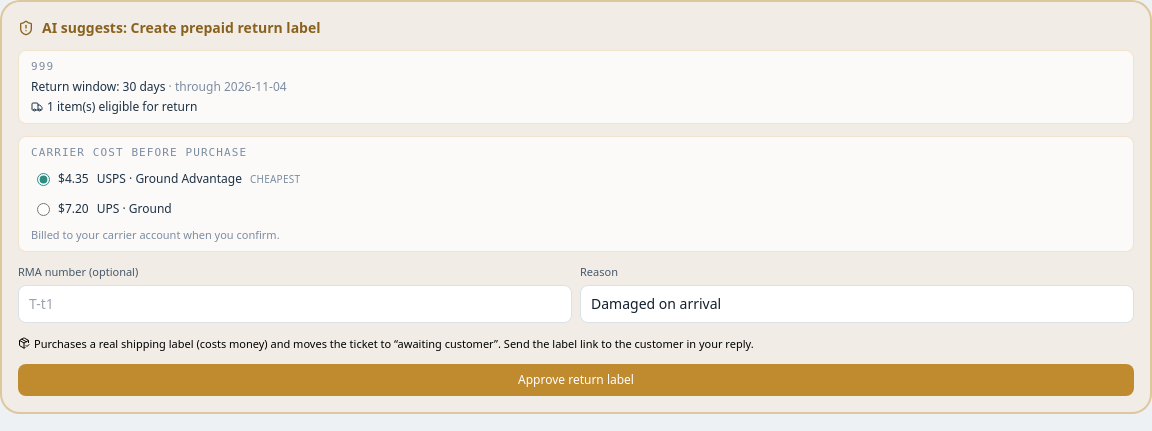
Test case: ReturnApprovalPanel › buys the label with an idempotency key and shows tracking + PDF link
Expected: the text "Return window: 30 days · through 2026-11-04" is shown, [31, 78, 287, 95]
Click the button "Approve return label": (576, 380) [18, 364, 1134, 396]
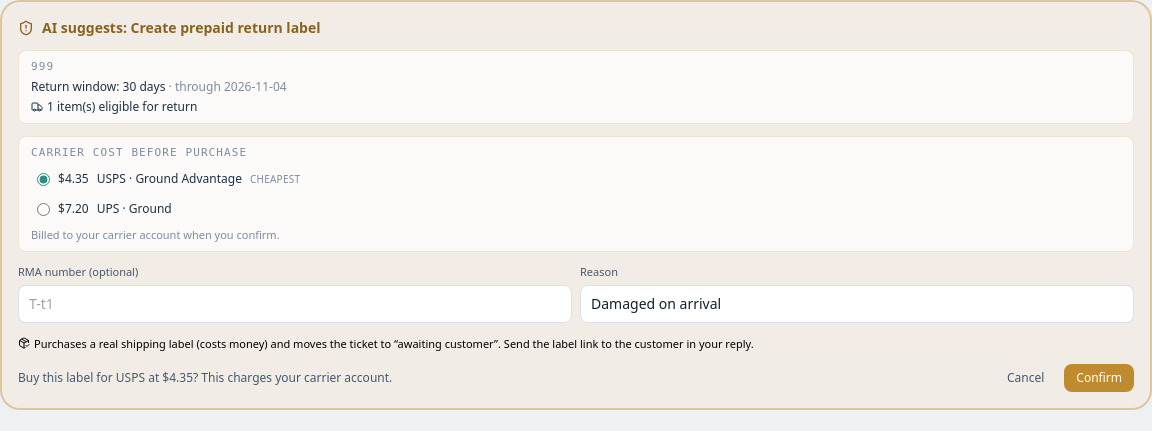
Expected: the text "charges your carrier account" is shown, [18, 369, 392, 386]
Click the button "Confirm": (1099, 378) [1064, 364, 1134, 392]
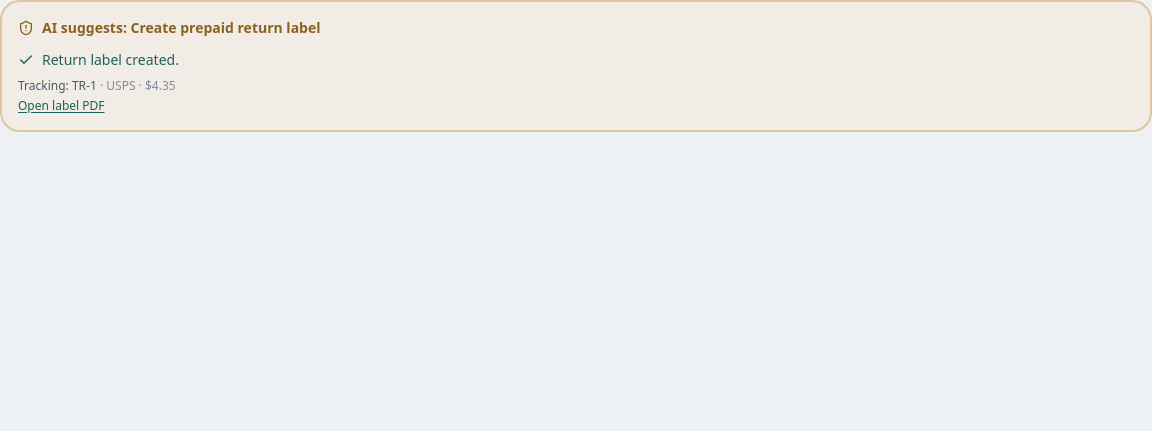
Expected: the text "Return label created." is shown, [18, 50, 179, 69]
